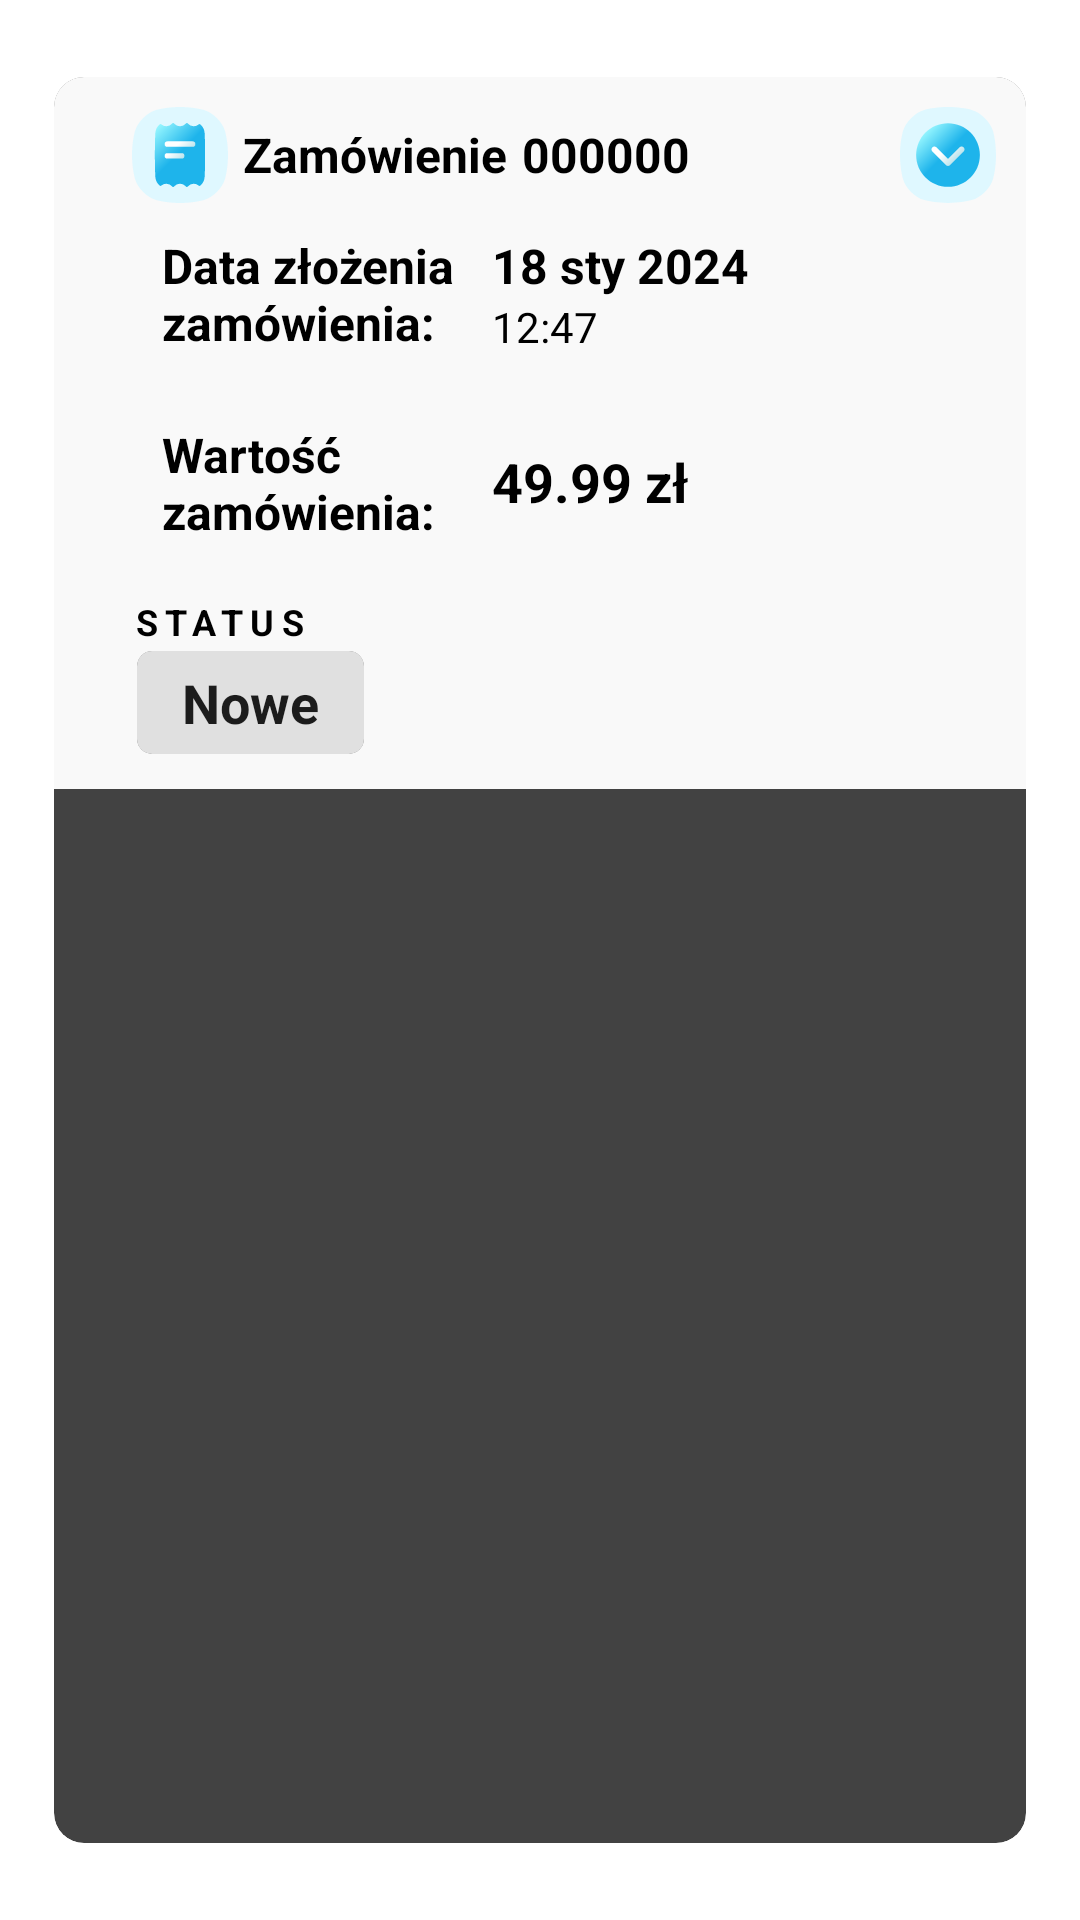

Where icons sit on this 1080 × 1920 app screen, as [x1=x1, y1=y1, x2=x2, y2=y2]:
bill: [x1=132, y1=107, x2=228, y2=203]
chevron: [x1=900, y1=107, x2=996, y2=203]
